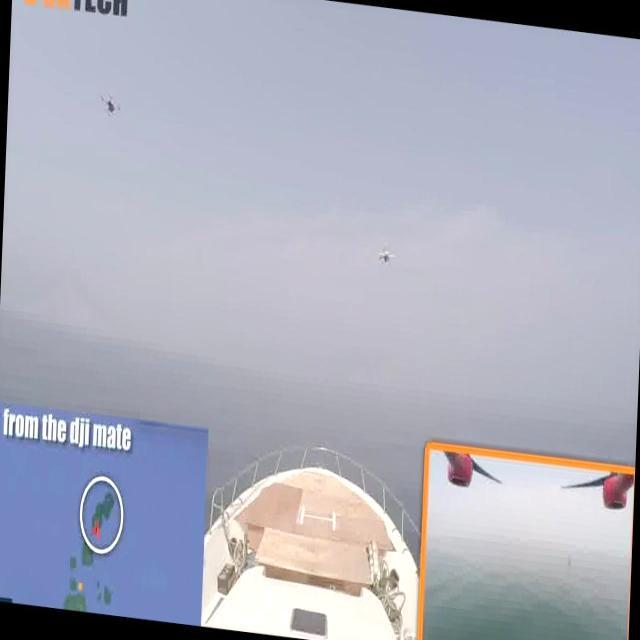drone: (368, 236, 402, 286), (95, 83, 129, 130)
